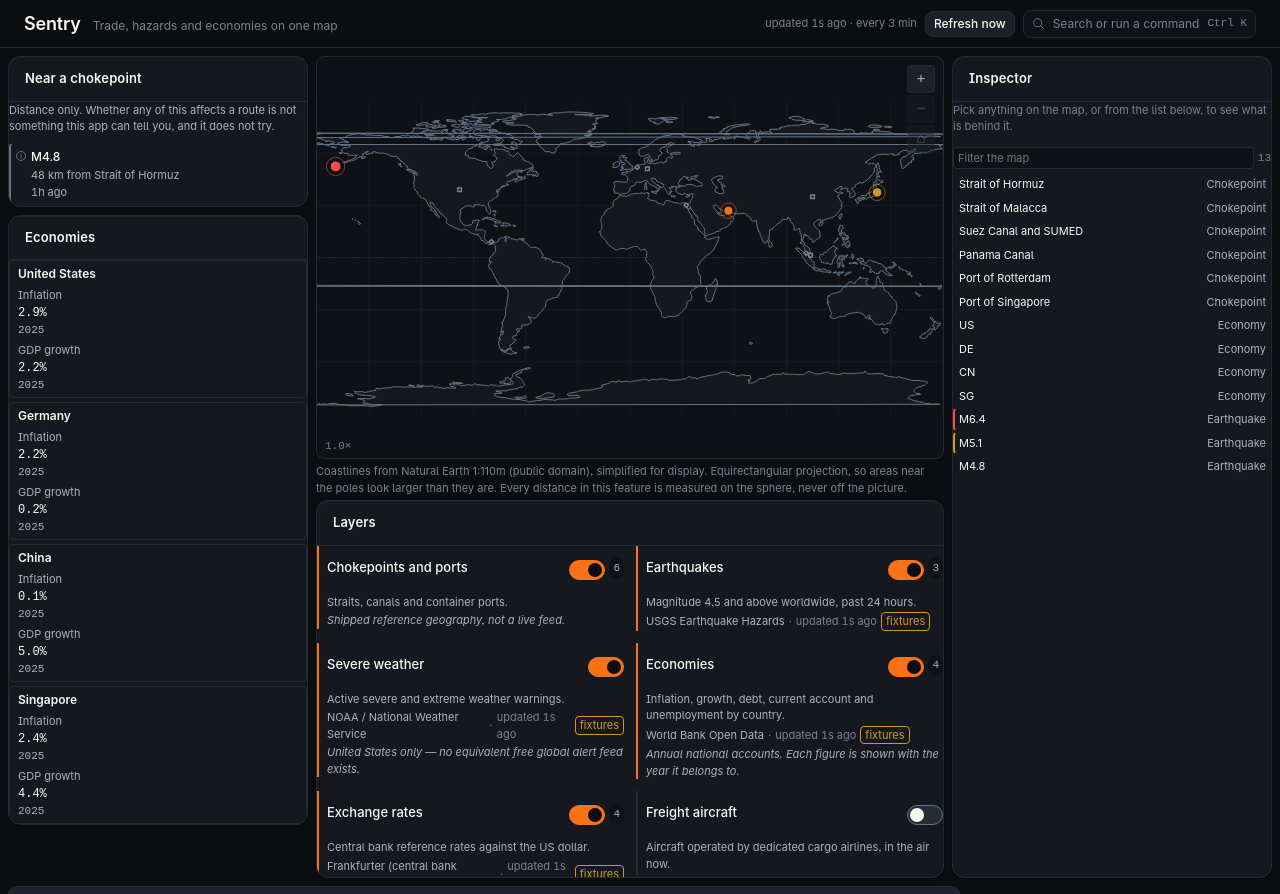
the map › selects a marker from the list and shows what is behind it
Expected: the picture named "World map" is shown, [317,57,943,458]
Click the button "Strait of Hormuz Chokepoint".
click(1002, 184)  # box [953,173,1271,196]
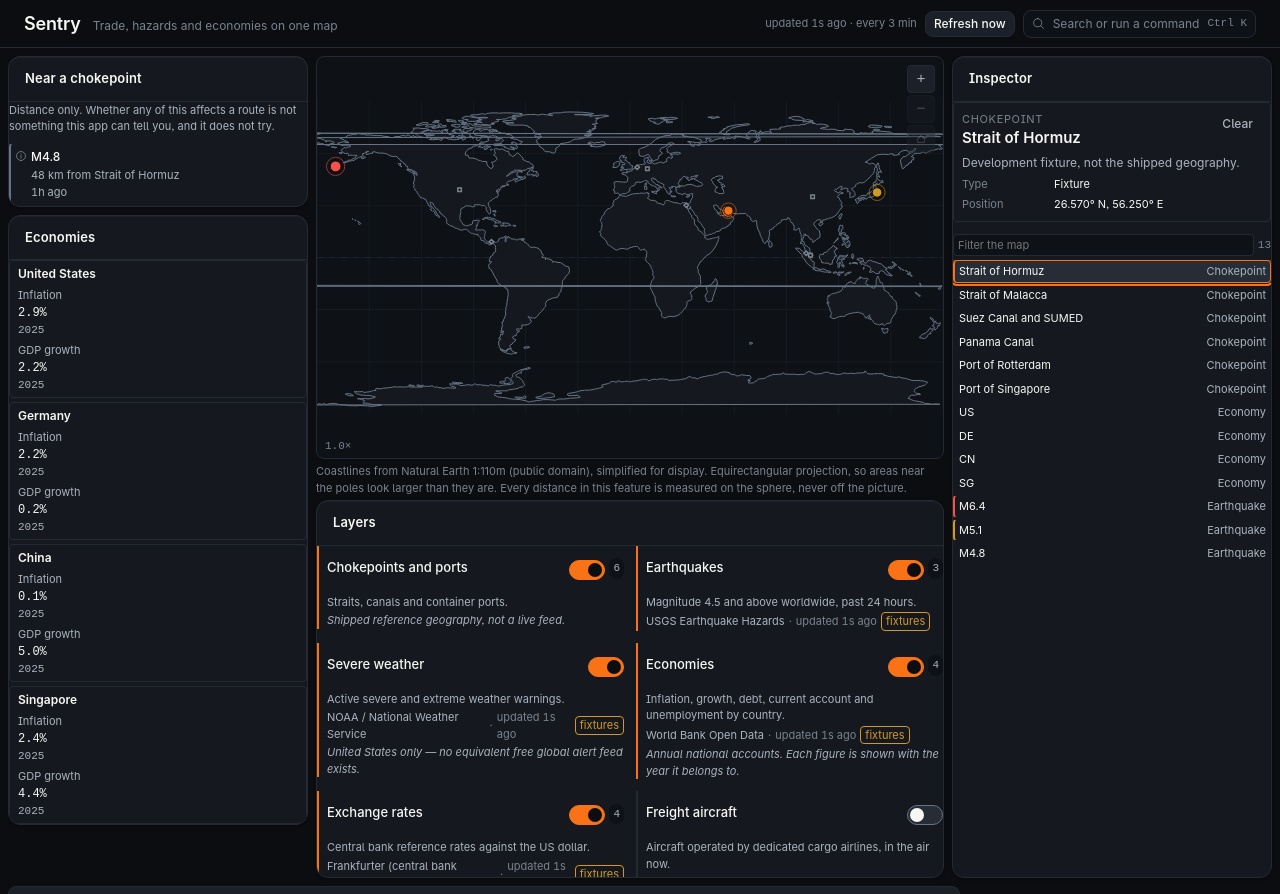
Expected: the heading "Strait of Hormuz" is shown, [962,127,1081,150]
Expected: the text "26.570° N, 56.250° E" is shown, [1054,197,1163,211]
